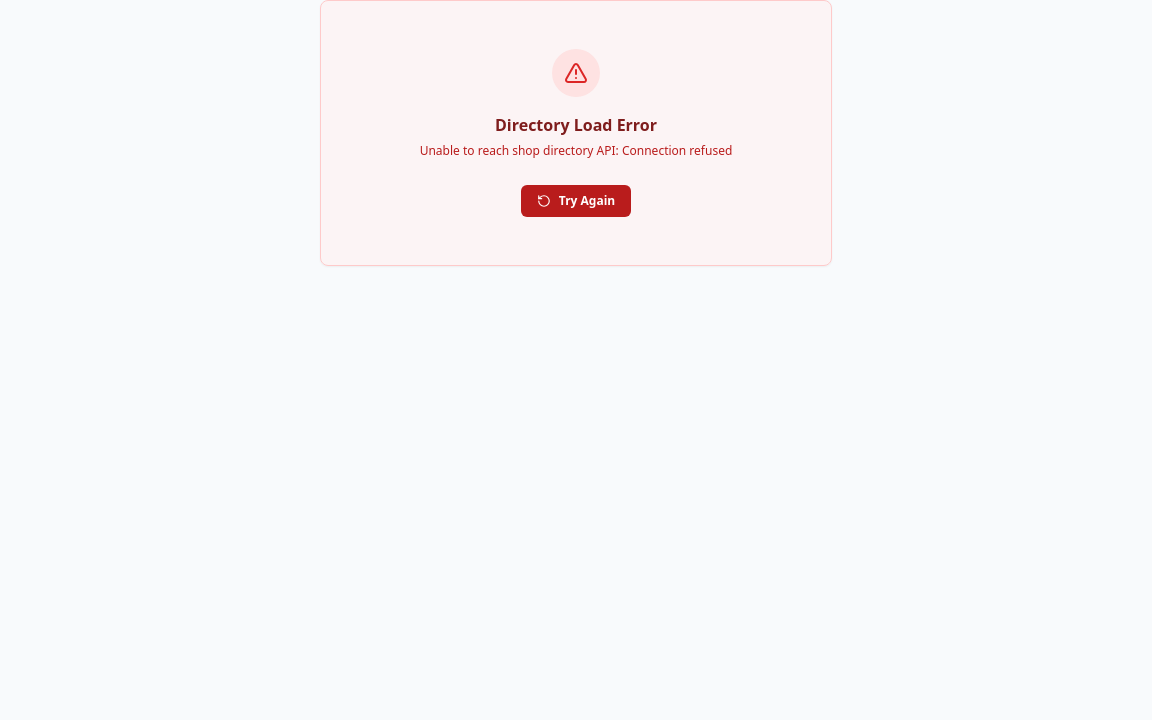
Test: Shop Directory Frontend Components › ShopList › displays ErrorState when configured API fails and retries on button click
Check: the heading "Directory Load Error" is shown, box [495,114,657,136]
Check: the text "Unable to reach shop directory API: Connection refused" is shown, box [420,142,732,159]
Click the button "Try Again" at (576, 200), box [521,184,631,216]
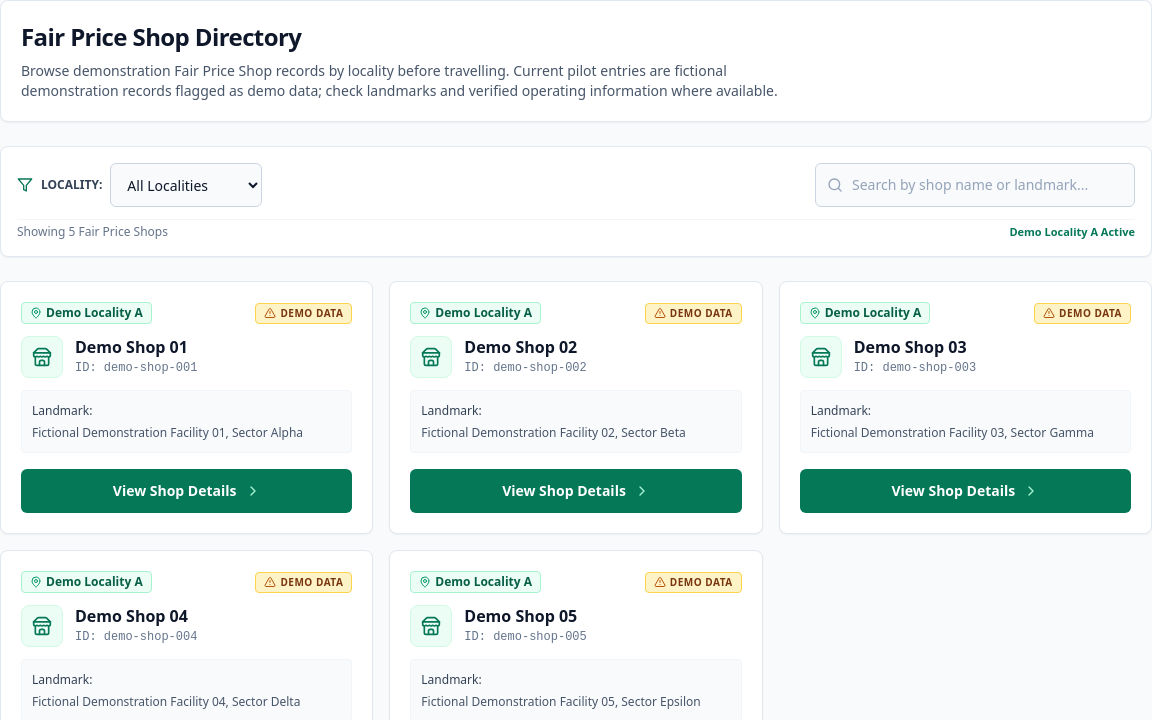
Check: the heading "Demo Shop 01" is shown, box [75,336,197,358]
